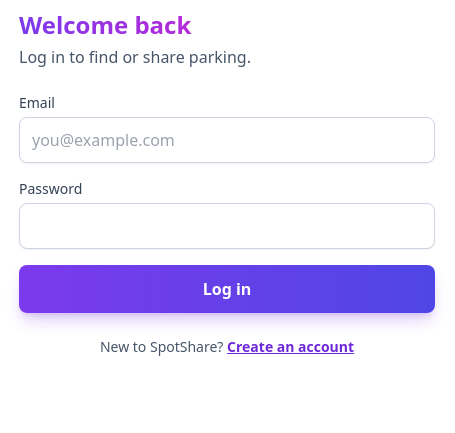
Login page › shows the server message when credentials are wrong
Type "ada@example.com" into the field labelled "Email" at (227, 140), box [19, 117, 435, 163]
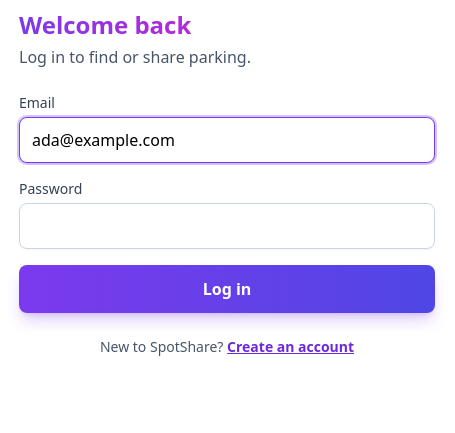
Type "wrong" into the password field labelled "Password" at (227, 226), box [19, 203, 435, 249]
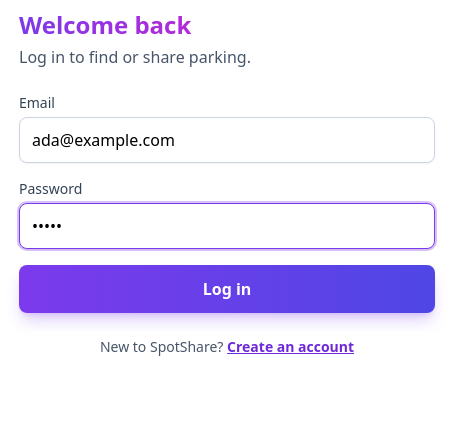
Click the button "Log in" at (227, 289), box [19, 265, 435, 313]
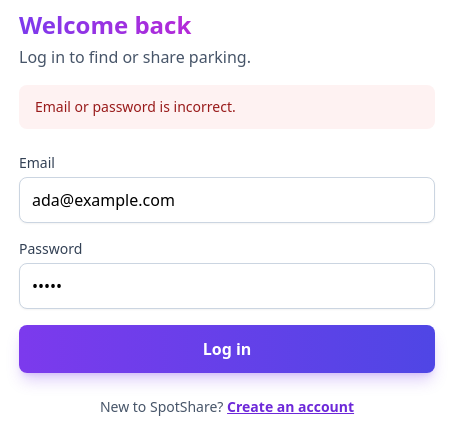
Expected: the message shows "incorrect", [35, 97, 236, 116]
